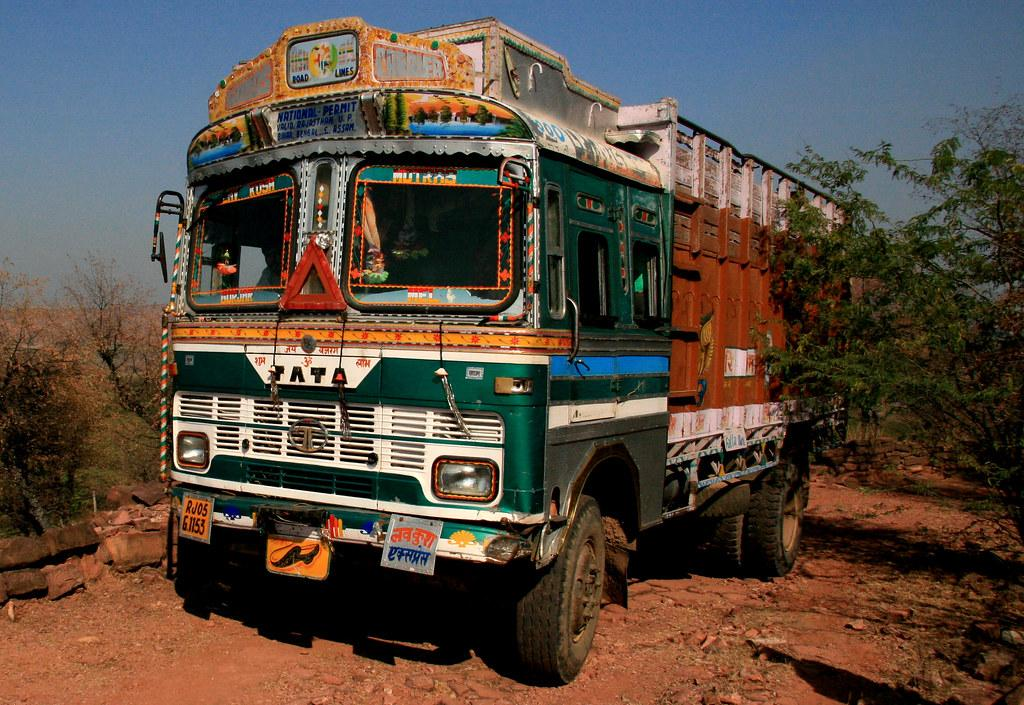License-Plate: (179, 492, 212, 542)
